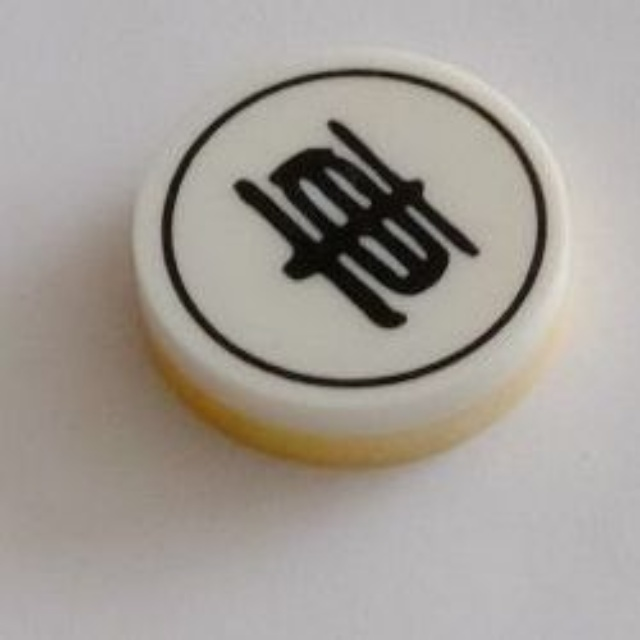black_xe: (129, 43, 577, 469)
